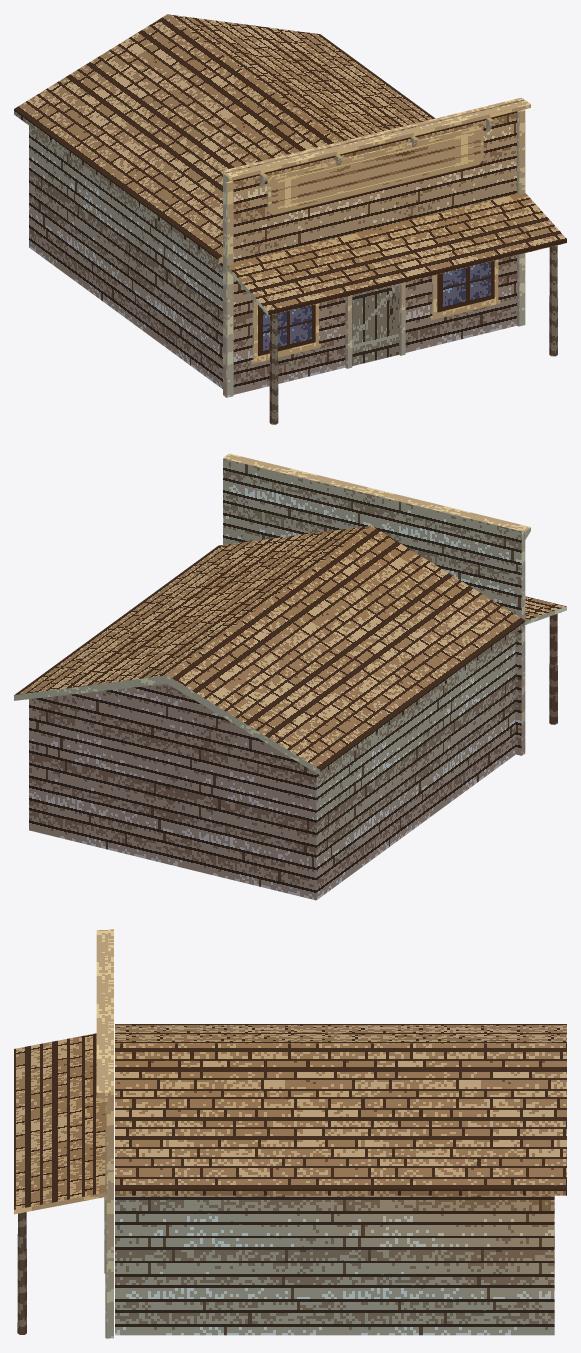
File: wtown.store.glb
The picture shows the model from 3 angles, top to bottom: view 1: azimuth 30°, elevation 25°; view 2: azimuth 150°, elevation 25°; view 3: azimuth 270°, elevation 25°; orthographic projection. The views are drawn at different scales.
Parts seen in each view (by area): view 1: kit_roof, kit_front, kit_body, kit_porch, kit_card_panes, kit_trim, kit_windows; view 2: kit_body, kit_roof, kit_front, kit_trim, kit_porch; view 3: kit_roof, kit_body, kit_porch, kit_trim, kit_front.
Part boxes in pixels (<box>): kit_roof: <box>14,14,435,264</box>; kit_front: <box>223,97,524,395</box>; kit_body: <box>29,126,222,388</box>; kit_porch: <box>226,193,566,424</box>; kit_card_panes: <box>258,129,494,365</box>; kit_trim: <box>223,100,530,397</box>; kit_windows: <box>250,260,500,363</box>; kit_body: <box>29,633,515,900</box>; kit_roof: <box>14,525,524,775</box>; kit_front: <box>223,456,524,755</box>; kit_trim: <box>224,453,530,754</box>; kit_porch: <box>525,596,566,724</box>; kit_roof: <box>115,1024,566,1195</box>; kit_body: <box>115,1195,554,1335</box>; kit_porch: <box>14,1033,105,1334</box>; kit_trim: <box>96,930,109,1338</box>; kit_front: <box>108,929,113,1338</box>.
Bounding box in the file's own units: 8 × 5.6 × 11.32.
7 materials, 7 textured.
